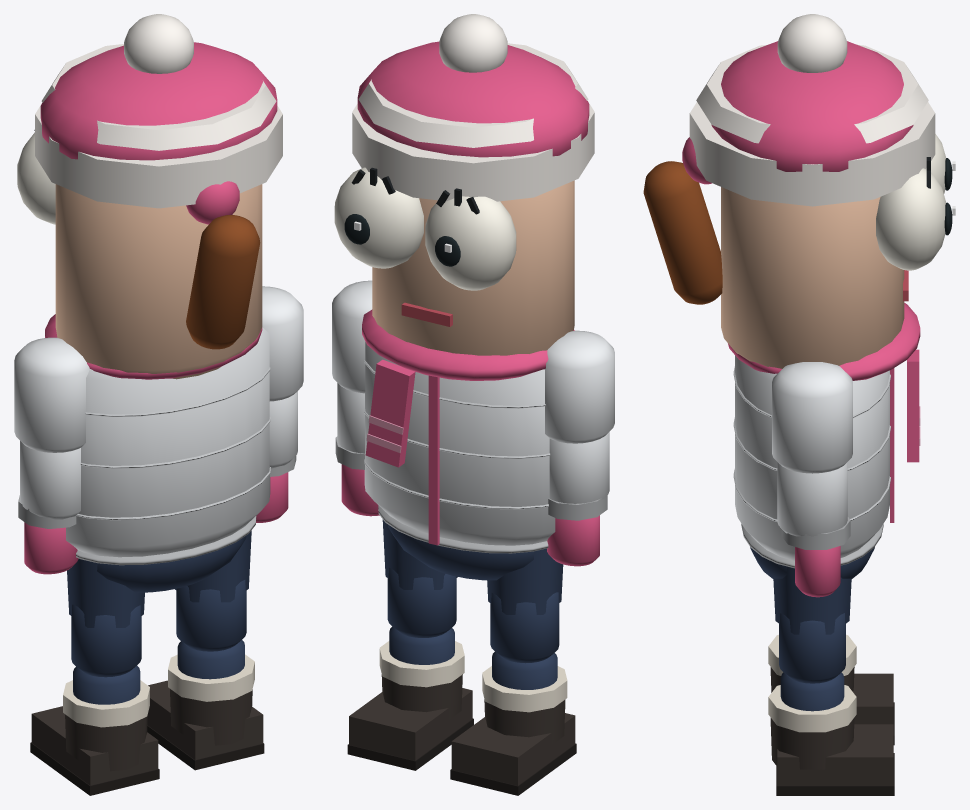
File: spectator_winter_9.glb
3 views of the same model, side by side, from view 1: azimuth 30°, elevation 25°; view 2: azimuth 150°, elevation 25°; view 3: azimuth 270°, elevation 25° (orthographic). The views are drawn at different scales.
Visible parts, largest first — view 1: Head, RallySpectator, LeftShin, RightShin, LeftArm, LeftLeg, LeftForearm, RightLeg, RightArm, RightForearm; view 2: Head, RallySpectator, LeftShin, RightShin, LeftArm, LeftForearm, LeftLeg, RightLeg, RightArm, RightForearm; view 3: Head, RallySpectator, RightShin, RightArm, RightForearm, RightLeg, LeftShin.
Boxes of the visible parts, <box> form: Head: <box>17,14,282,379</box>; RallySpectator: <box>45,314,270,592</box>; LeftShin: <box>30,665,159,795</box>; RightShin: <box>147,640,264,770</box>; LeftArm: <box>14,337,89,452</box>; LeftLeg: <box>67,558,144,677</box>; LeftForearm: <box>18,441,80,574</box>; RightLeg: <box>175,530,251,651</box>; RightArm: <box>262,286,303,401</box>; RightForearm: <box>256,391,297,522</box>; Head: <box>334,14,594,355</box>; RallySpectator: <box>362,309,574,580</box>; LeftShin: <box>450,652,576,795</box>; RightShin: <box>347,626,473,770</box>; LeftArm: <box>544,330,614,443</box>; LeftForearm: <box>547,432,609,566</box>; LeftLeg: <box>487,548,563,663</box>; RightLeg: <box>382,519,457,637</box>; RightArm: <box>332,280,372,393</box>; RightForearm: <box>335,383,379,516</box>; Head: <box>643,14,955,368</box>; RallySpectator: <box>728,303,920,578</box>; RightShin: <box>768,672,894,795</box>; RightArm: <box>772,362,852,473</box>; RightForearm: <box>777,462,850,597</box>; RightLeg: <box>773,566,851,683</box>; LeftShin: <box>768,634,894,745</box>.
Bounding box in the file's own units: 0.9 × 2.3 × 0.8849.
